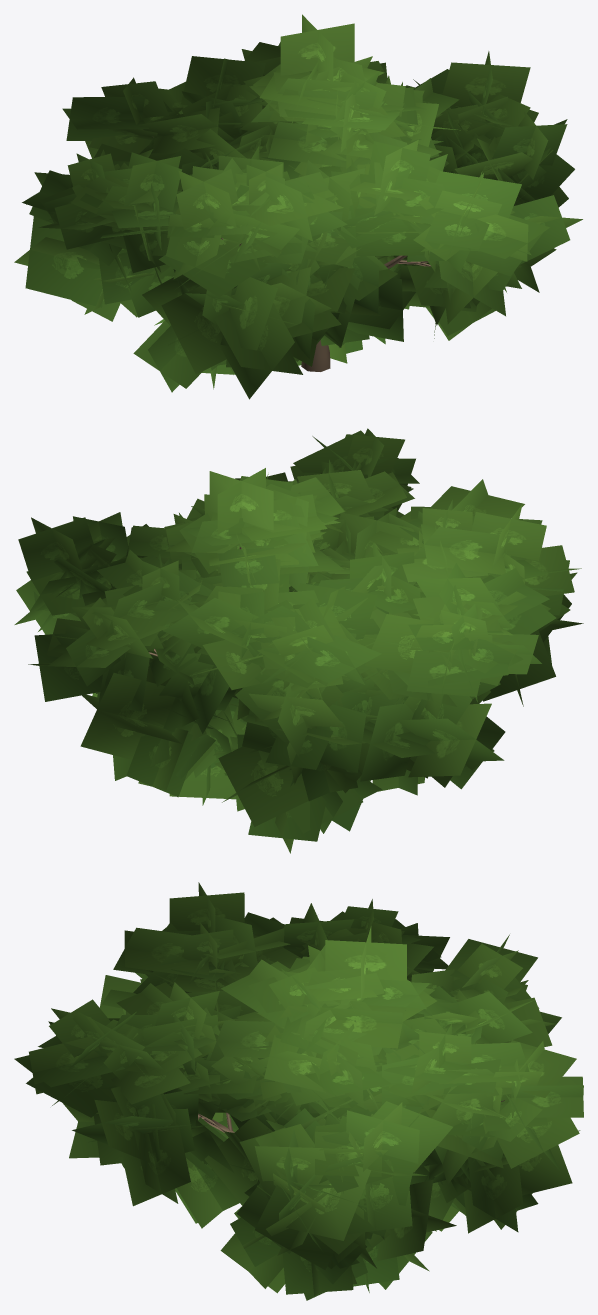
File: saman.glb
3 renders of one model, top to bottom at view 1: azimuth 30°, elevation 25°; view 2: azimuth 150°, elevation 25°; view 3: azimuth 270°, elevation 25°, orthographic. The views are drawn at different scales.
Visible parts, largest first — view 1: saman; view 2: saman; view 3: saman.
Part boxes in pixels (left/top/right/bottom): saman: left=14, top=14, right=582, bottom=399; saman: left=14, top=428, right=583, bottom=853; saman: left=14, top=882, right=583, bottom=1300.
Bounding box in the file's own units: 27.52 × 16.65 × 25.83.
2 materials, 1 textured.
